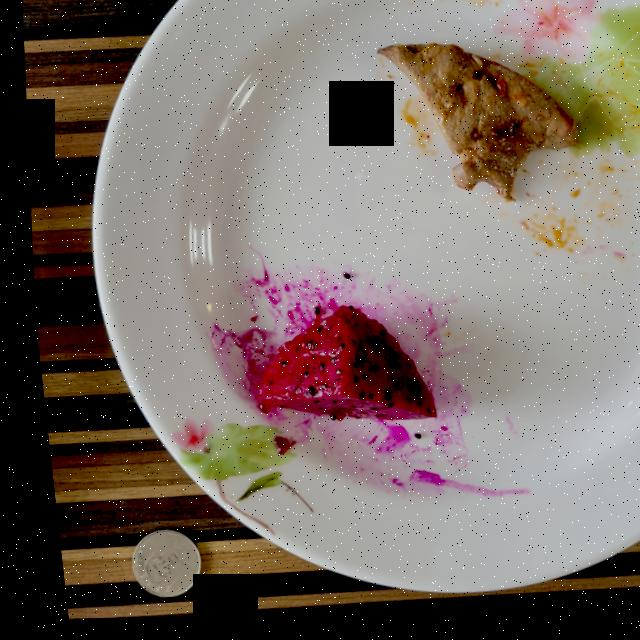coin: (119, 530, 186, 597)
pig liver: (375, 51, 573, 209)
